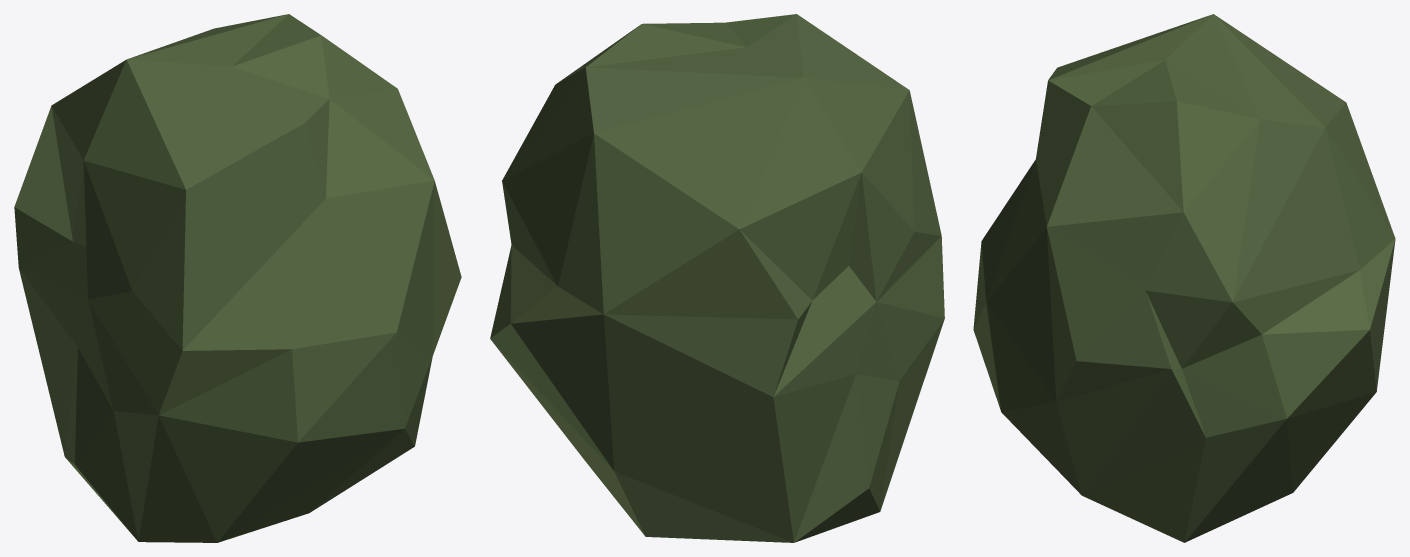
File: SM_Envr_Nature_Plant_Bush_01.fbx
The picture shows the model from 3 angles, left to right: view 1: azimuth 30°, elevation 25°; view 2: azimuth 150°, elevation 25°; view 3: azimuth 270°, elevation 25°; orthographic projection. The views are drawn at different scales.
Visible parts, largest first — view 1: SM_Envr_Nature_Plant_Bush_01; view 2: SM_Envr_Nature_Plant_Bush_01; view 3: SM_Envr_Nature_Plant_Bush_01.
Part boxes in pixels (<box>): SM_Envr_Nature_Plant_Bush_01: <box>14,14,461,542</box>; SM_Envr_Nature_Plant_Bush_01: <box>490,14,944,542</box>; SM_Envr_Nature_Plant_Bush_01: <box>973,14,1395,542</box>.
Bounding box in the file's own units: 82.25 × 102 × 91.46.
